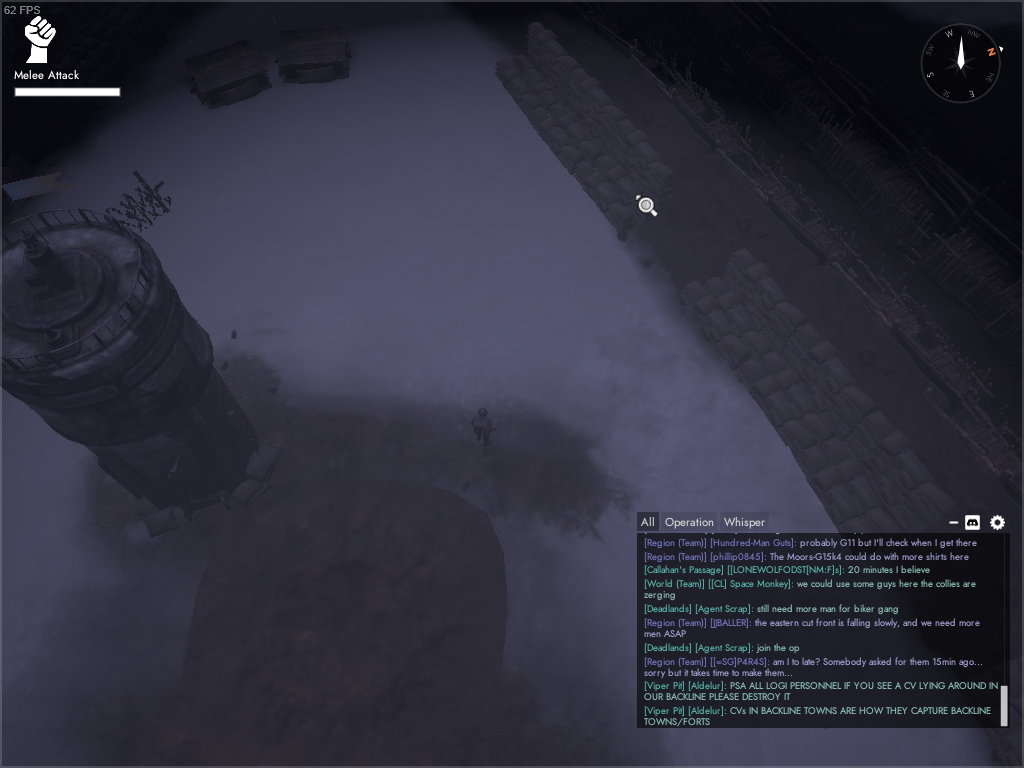observation_tower: (1, 169, 279, 540)
pillbox: (184, 41, 274, 112), (272, 29, 353, 85)
player: (469, 408, 497, 447)
sandbag: (538, 90, 679, 241), (748, 327, 881, 455), (676, 249, 810, 373), (796, 411, 932, 522), (495, 20, 592, 132), (836, 477, 967, 534)
wire: (101, 169, 173, 238)
